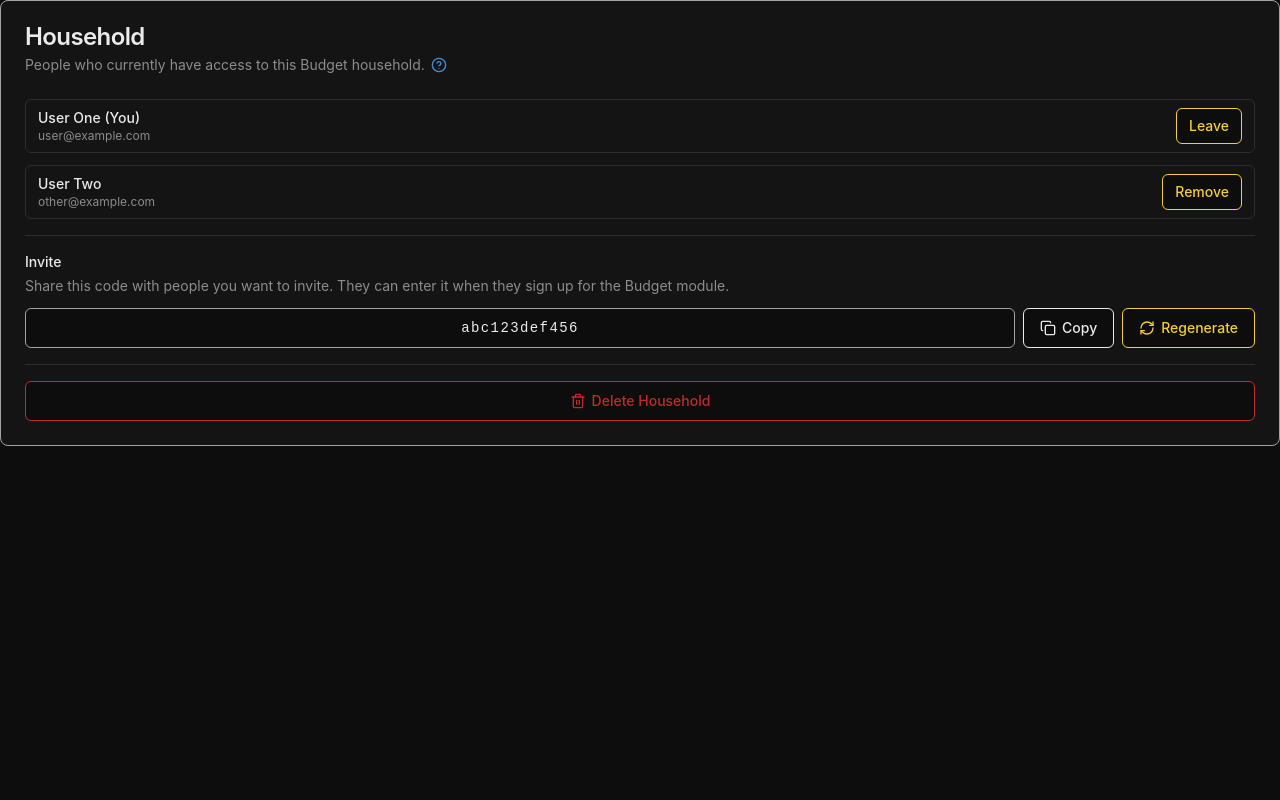
Test: HouseholdManagementPanel › opens leave-household confirmation and submits leave action
Later steps or results of the test are not shown.
Click the button "Leave" at (1209, 126), box [1176,108,1242,144]
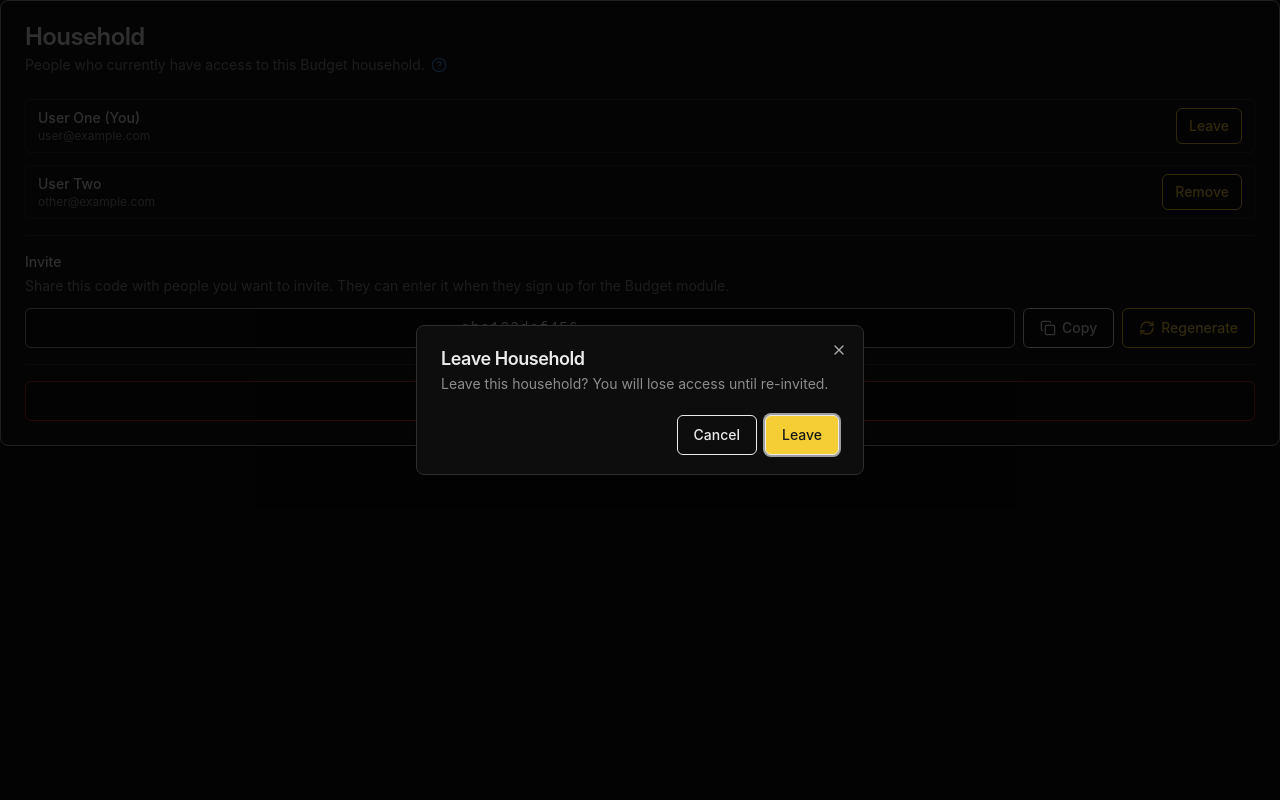
Check: the dialog is shown, box [416,325,864,475]
Check: the button "Leave" is shown, box [765,415,839,455]
